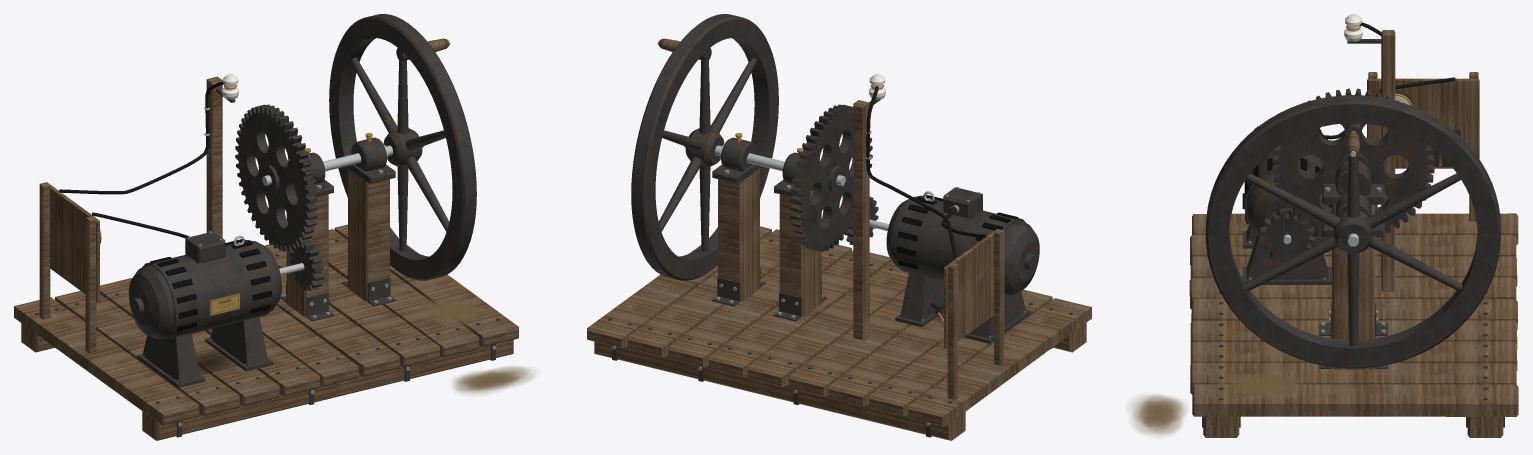
File: HandCrank.glb
3 views of the same model, side by side, from view 1: azimuth 30°, elevation 25°; view 2: azimuth 150°, elevation 25°; view 3: azimuth 270°, elevation 25° (orthographic). The views are drawn at different scales.
Parts seen in each view (by area): view 1: HC_Base_Timber, HC_Wheel_Iron, HC_Dynamo_Iron, HC_Details_Timber, HC_Base_Iron, HC_Details_Worn, HC_Dynamo_Bore, HC_Details_Cable, HC_Dynamo_Oil, HC_Wheel_Steel; view 2: HC_Base_Timber, HC_Wheel_Iron, HC_Dynamo_Iron, HC_Details_Timber, HC_Base_Iron, HC_Dynamo_Bore, HC_Details_Cable, HC_Wheel_Steel; view 3: HC_Base_Timber, HC_Wheel_Iron, HC_Dynamo_Iron, HC_Details_Timber, HC_Details_Worn, HC_Base_Iron, HC_Details_Cable, HC_Details_Porcelain, HC_Dynamo_Bore.
Part boxes in pixels (x1,y1,x2,y2): HC_Base_Timber: (14,168,518,440); HC_Wheel_Iron: (235,14,476,280); HC_Dynamo_Iron: (128,231,323,387); HC_Details_Timber: (39,76,222,353); HC_Base_Iron: (35,137,499,437); HC_Details_Worn: (420,295,534,394); HC_Dynamo_Bore: (144,239,271,331); HC_Details_Cable: (59,81,224,238); HC_Dynamo_Oil: (196,349,236,374); HC_Wheel_Steel: (262,40,450,185); HC_Base_Timber: (587,168,1091,440); HC_Wheel_Iron: (631,14,872,280); HC_Dynamo_Iron: (845,187,1039,343); HC_Details_Timber: (853,100,1004,400); HC_Base_Iron: (608,137,1072,437); HC_Dynamo_Bore: (896,194,1023,268); HC_Details_Cable: (866,86,986,257); HC_Wheel_Steel: (657,40,845,185); HC_Base_Timber: (1189,204,1518,437); HC_Wheel_Iron: (1205,88,1500,368); HC_Dynamo_Iron: (1242,132,1331,284); HC_Details_Timber: (1367,30,1479,291); HC_Details_Worn: (1131,373,1310,435); HC_Base_Iron: (1202,161,1504,427); HC_Details_Cable: (1321,22,1455,139); HC_Details_Porcelain: (1344,14,1362,41); HC_Dynamo_Bore: (1242,126,1331,223).
Size of what is drawn, in the model's own units: 5.91 by 4.5 by 5.13.
Materials: 16 (6 with a texture image).
